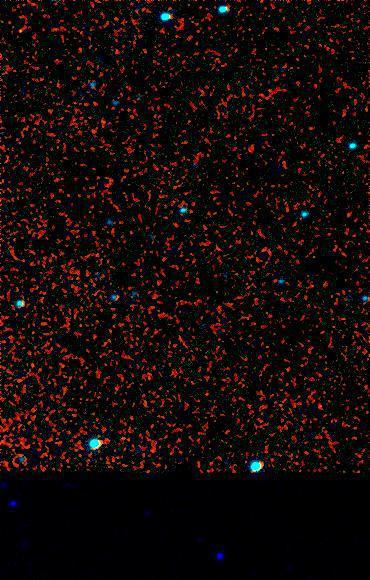star: (9, 19, 39, 49)
